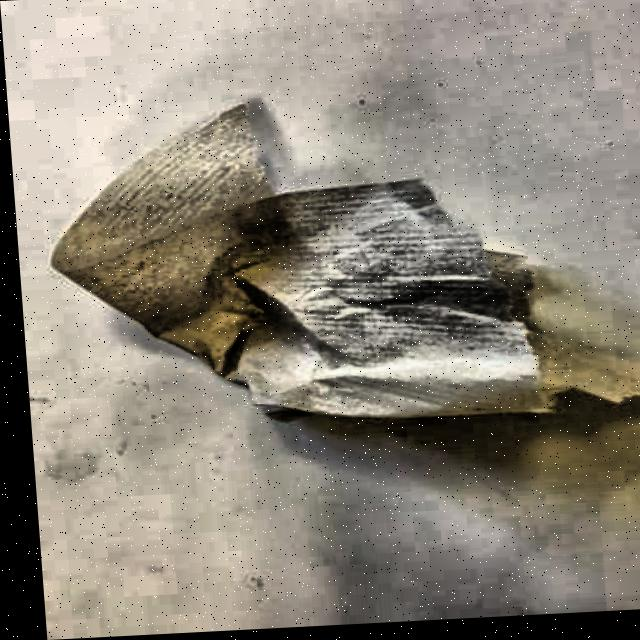paper: (36, 80, 640, 440)
